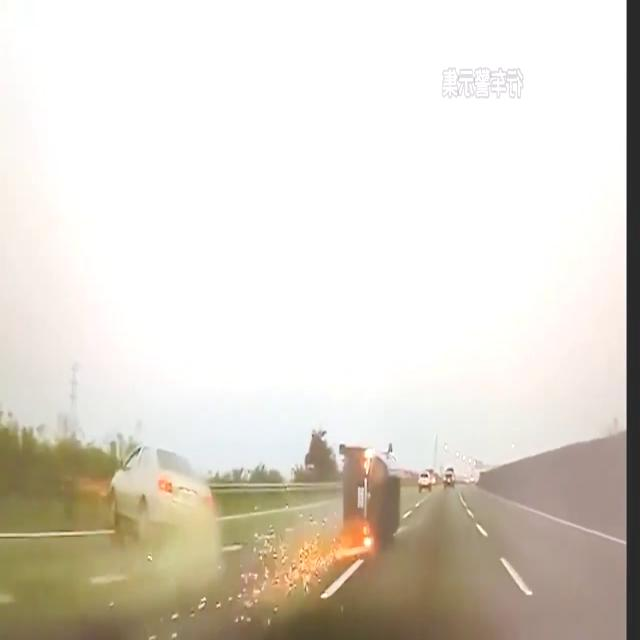accident: (106, 438, 404, 552), (110, 447, 216, 547), (341, 443, 403, 552)
non-accident: (419, 468, 436, 488)
